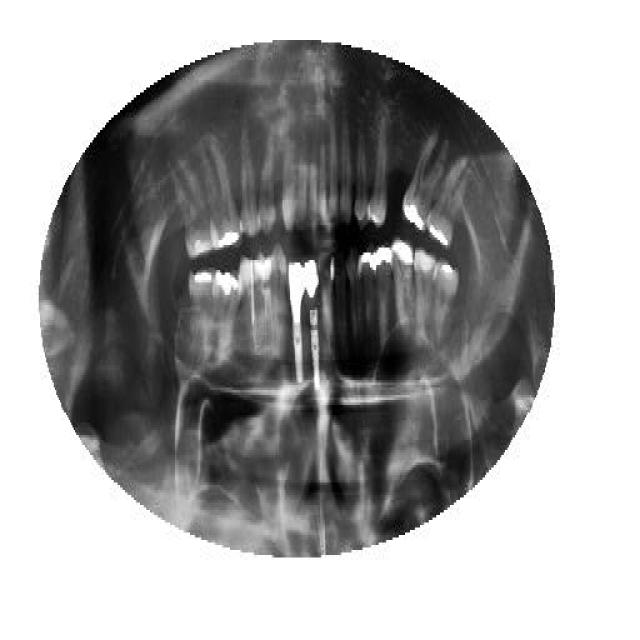Fillings: (401, 135, 449, 230), (202, 145, 242, 253), (170, 158, 212, 260), (427, 155, 468, 247), (212, 265, 240, 363), (431, 258, 460, 342), (188, 265, 212, 365), (375, 240, 393, 355), (358, 245, 373, 337)
Implant: (304, 258, 321, 392), (287, 260, 305, 385)
